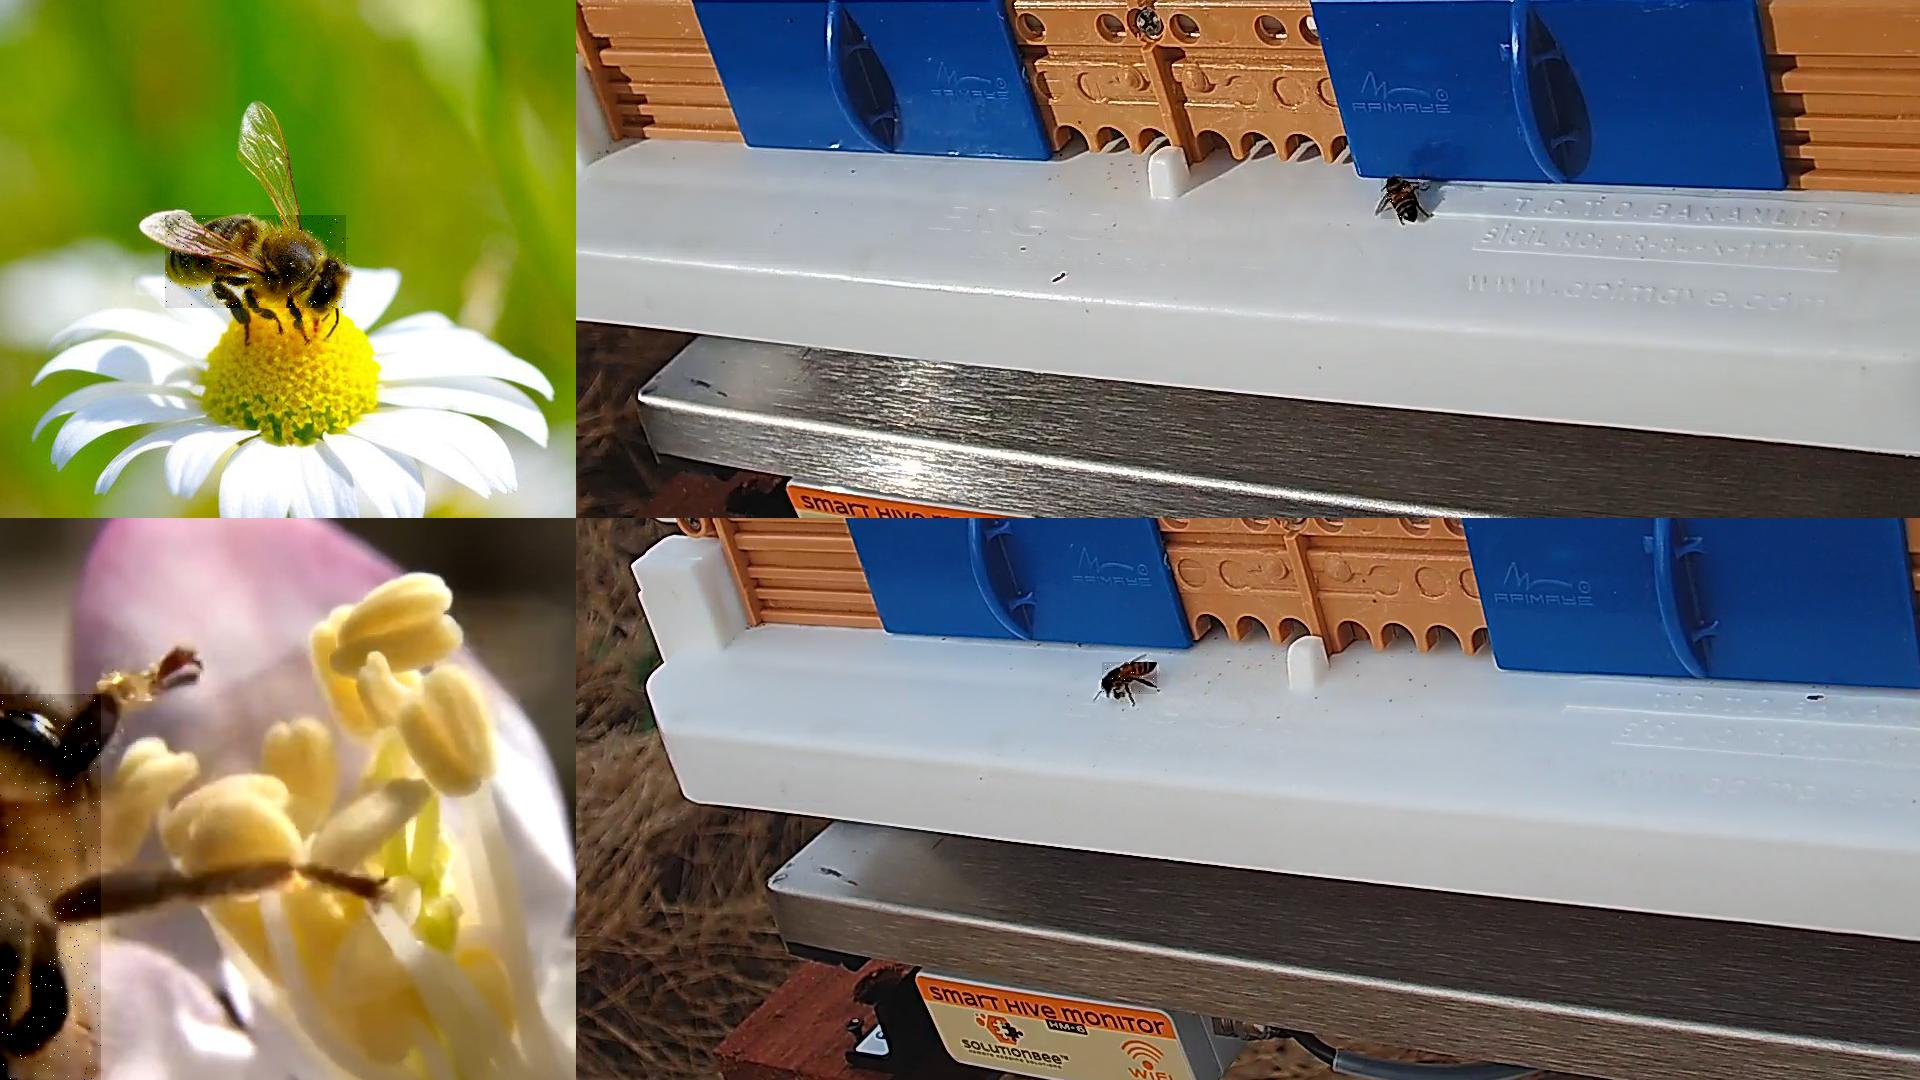bee: (0, 694, 103, 1079), (166, 215, 350, 309), (1102, 663, 1158, 698), (1381, 177, 1420, 220)
